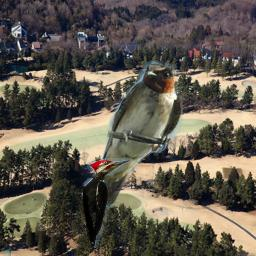Swallow: (80, 61, 183, 208)
Woodpecker: (76, 158, 133, 248)
